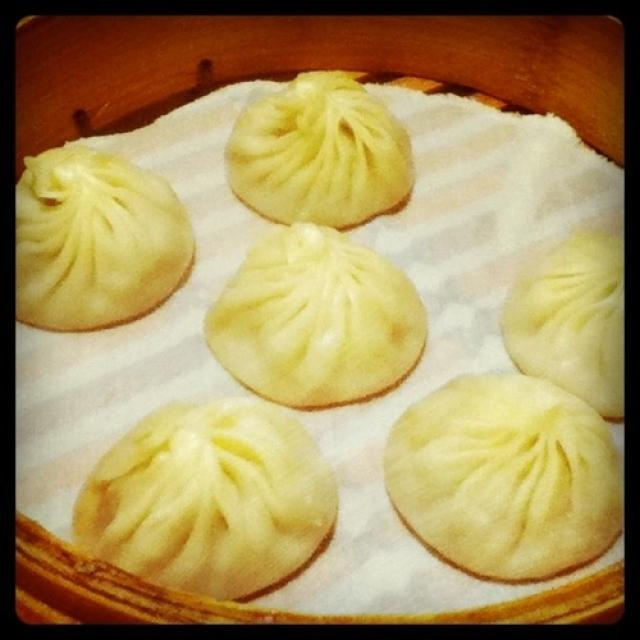带馅早点: (36, 64, 609, 613)
